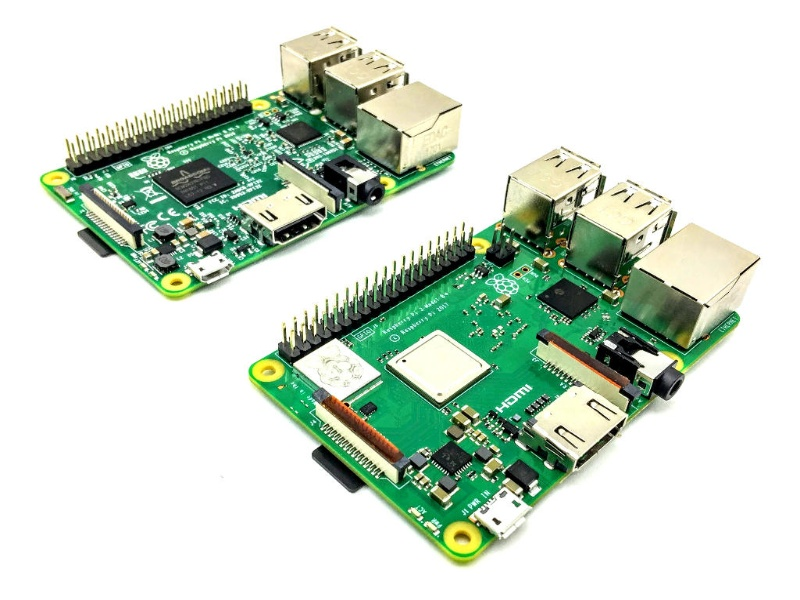raspberrypi: (238, 139, 757, 553), (46, 15, 478, 302)
